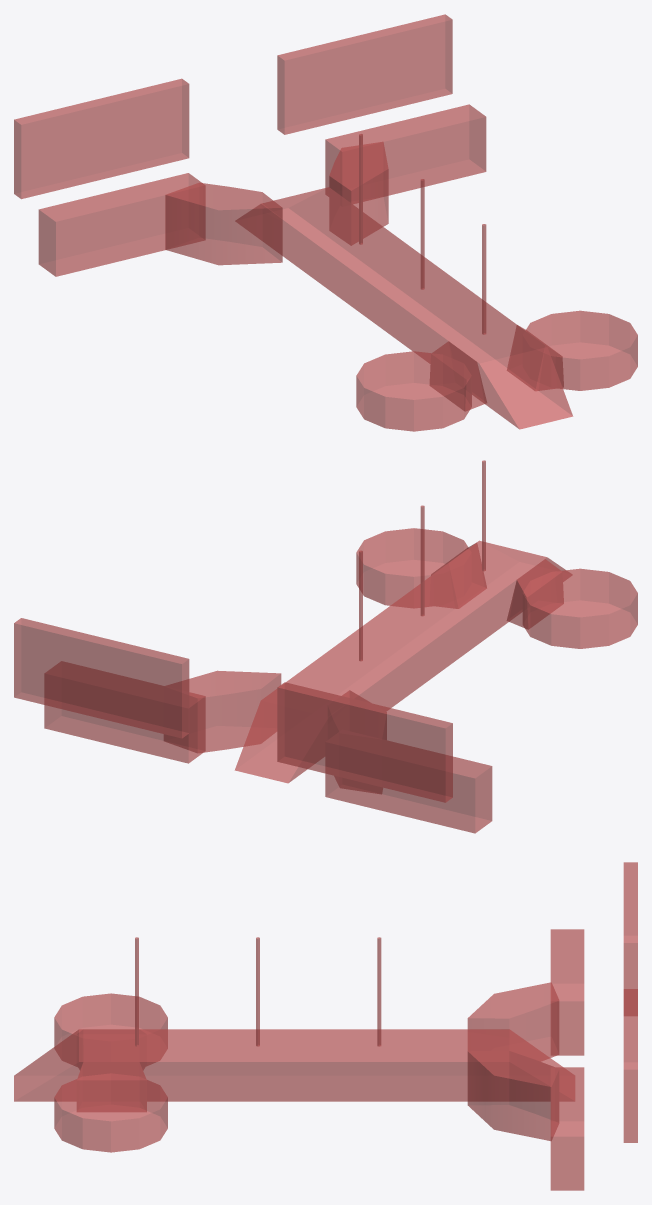
File: SM_Bld_StripClub_Interior_02_Collision.fbx
3 views of the same model, one above another, from view 1: azimuth 30°, elevation 25°; view 2: azimuth 150°, elevation 25°; view 3: azimuth 270°, elevation 25° (orthographic).
Parts seen in each view (by area): view 1: SM_Bld_StripClub_Interior_02_Collision; view 2: SM_Bld_StripClub_Interior_02_Collision; view 3: SM_Bld_StripClub_Interior_02_Collision.
Boxes of the visible parts, bbox=[...] form: SM_Bld_StripClub_Interior_02_Collision: bbox=[14, 14, 637, 431]; SM_Bld_StripClub_Interior_02_Collision: bbox=[14, 460, 637, 833]; SM_Bld_StripClub_Interior_02_Collision: bbox=[14, 862, 637, 1190].
Size of the model in its own units: 953 by 320 by 1205.
